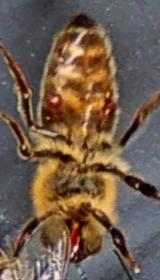varroa_mite: (44, 84, 64, 110)
